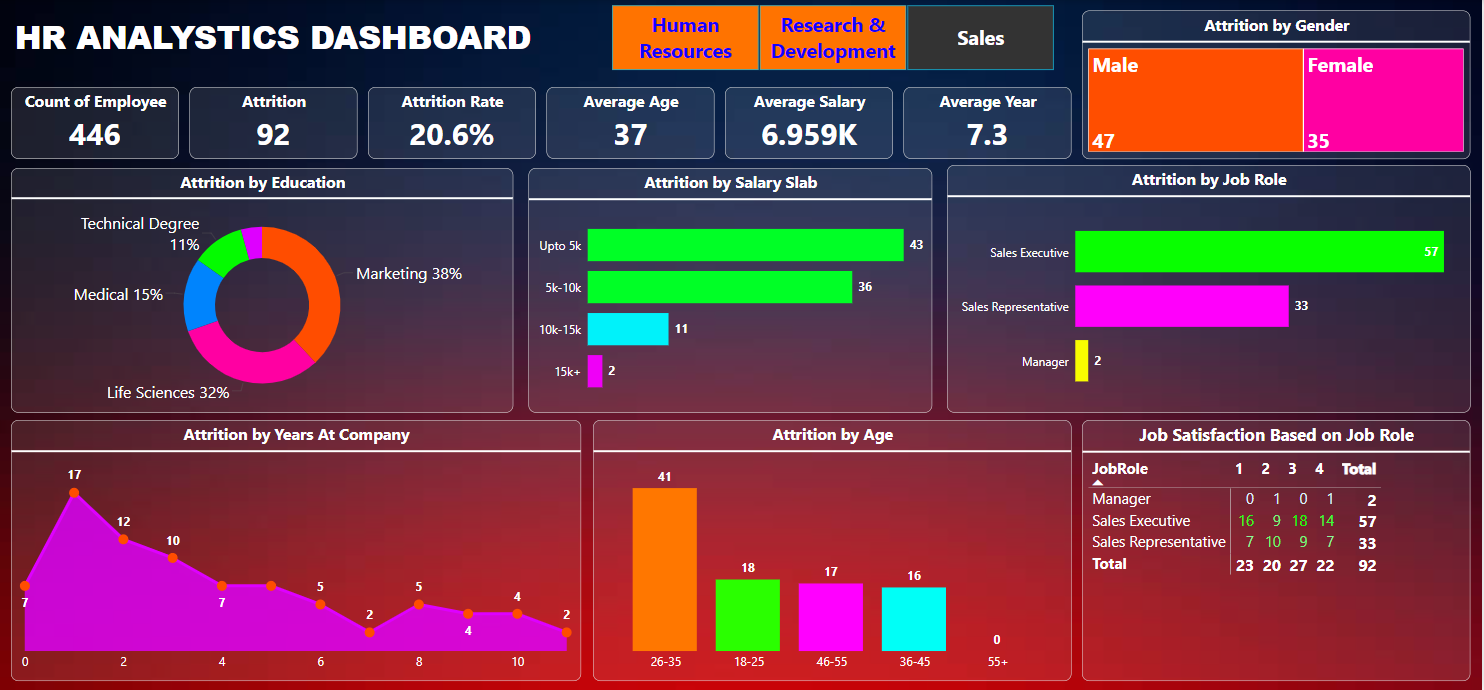

The dashboard page shown, as its layout file describes it:
{"tool":"powerbi","page":{"name":"Page 1","canvas":[2000,930],"ordinal":0},"visuals":[{"type":"card","title":"Count of Employee","fields":{"Values":["Count(HR_Analytics.EmpID)"]},"box":[20.2,117.1,226.1,96.9],"z":0},{"type":"card","title":"Attrition ","fields":{"Values":["Sum(HR_Analytics.AttritionCount)"]},"box":[260.4,117.1,226.1,96.9],"z":1000},{"type":"card","title":"Attrition Rate","fields":{"Values":["HR_Analytics.attrition_rate"]},"box":[500.7,117.1,226.1,96.9],"z":2000},{"type":"card","title":"Average Age","fields":{"Values":["Avg(HR_Analytics.Age)"]},"box":[740.9,117.1,226.1,96.9],"z":3000},{"type":"card","title":"Average Salary","fields":{"Values":["Avg(HR_Analytics.MonthlyIncome)"]},"box":[981.2,117.1,226.1,96.9],"z":4000},{"type":"card","title":"Average Year","fields":{"Values":["Avg(HR_Analytics.YearsAtCompany)"]},"box":[1221.4,117.1,226.1,96.9],"z":5000},{"type":"slicer","title":"Department","fields":{"Values":["HR_Analytics.Department"]},"box":[803.5,0,644,100.9],"z":6000},{"type":"textbox","box":[20.2,14.1,720.7,78.7],"z":7000},{"type":"treemap","title":"Attrition by Gender","fields":{"Group":["HR_Analytics.Gender"],"Values":["Sum(HR_Analytics.AttritionCount)"]},"box":[1461.7,14.1,522.9,199.9],"z":8000},{"type":"donutChart","title":"Attrition by Education","fields":{"Category":["HR_Analytics.EducationField"],"Y":["Sum(HR_Analytics.AttritionCount)"]},"box":[20.2,226.1,676.3,329.1],"z":9000},{"type":"pivotTable","title":"Job Satisfaction Based on Job Role","fields":{"Rows":["HR_Analytics.JobRole"],"Columns":["HR_Analytics.JobSatisfaction"],"Values":["Sum(HR_Analytics.AttritionCount)"]},"box":[1461.7,565.3,522.9,351.3],"z":10000},{"type":"areaChart","title":"Attrition by Years At Company","fields":{"Category":["HR_Analytics.YearsAtCompany"],"Y":["Sum(HR_Analytics.AttritionCount)"]},"box":[20.2,565.3,767.2,351.3],"z":11000},{"type":"columnChart","title":"Attrition by Age","fields":{"Category":["HR_Analytics.AgeGroup"],"Y":["Sum(HR_Analytics.AttritionCount)"]},"box":[803.5,565.3,644,351.3],"z":12000},{"type":"barChart","title":"Attrition by Salary Slab","fields":{"Category":["HR_Analytics.SalarySlab"],"Y":["Sum(HR_Analytics.AttritionCount)"]},"box":[716.7,226.1,543.1,329.1],"z":13000},{"type":"barChart","title":"Attrition by Job Role","fields":{"Y":["Sum(HR_Analytics.AttritionCount)"],"Category":["HR_Analytics.JobRole"]},"box":[1280,222.1,704.6,333.1],"z":14000}]}

Visuals, with their boxes in screenshot pixels (x1, y1, x2, y2), scaled from the page's 2000x930 canvas onto the 1484x690 screenshot:
"Count of Employee" card: detection(15, 87, 183, 159)
"Attrition " card: detection(193, 87, 361, 159)
"Attrition Rate" card: detection(372, 87, 539, 159)
"Average Age" card: detection(550, 87, 718, 159)
"Average Salary" card: detection(728, 87, 896, 159)
"Average Year" card: detection(906, 87, 1074, 159)
"Department" slicer: detection(596, 0, 1074, 75)
textbox: detection(15, 10, 550, 69)
"Attrition by Gender" treemap: detection(1085, 10, 1473, 159)
"Attrition by Education" donutChart: detection(15, 168, 517, 412)
"Job Satisfaction Based on Job Role" pivotTable: detection(1085, 419, 1473, 680)
"Attrition by Years At Company" areaChart: detection(15, 419, 584, 680)
"Attrition by Age" columnChart: detection(596, 419, 1074, 680)
"Attrition by Salary Slab" barChart: detection(532, 168, 935, 412)
"Attrition by Job Role" barChart: detection(950, 165, 1473, 412)
